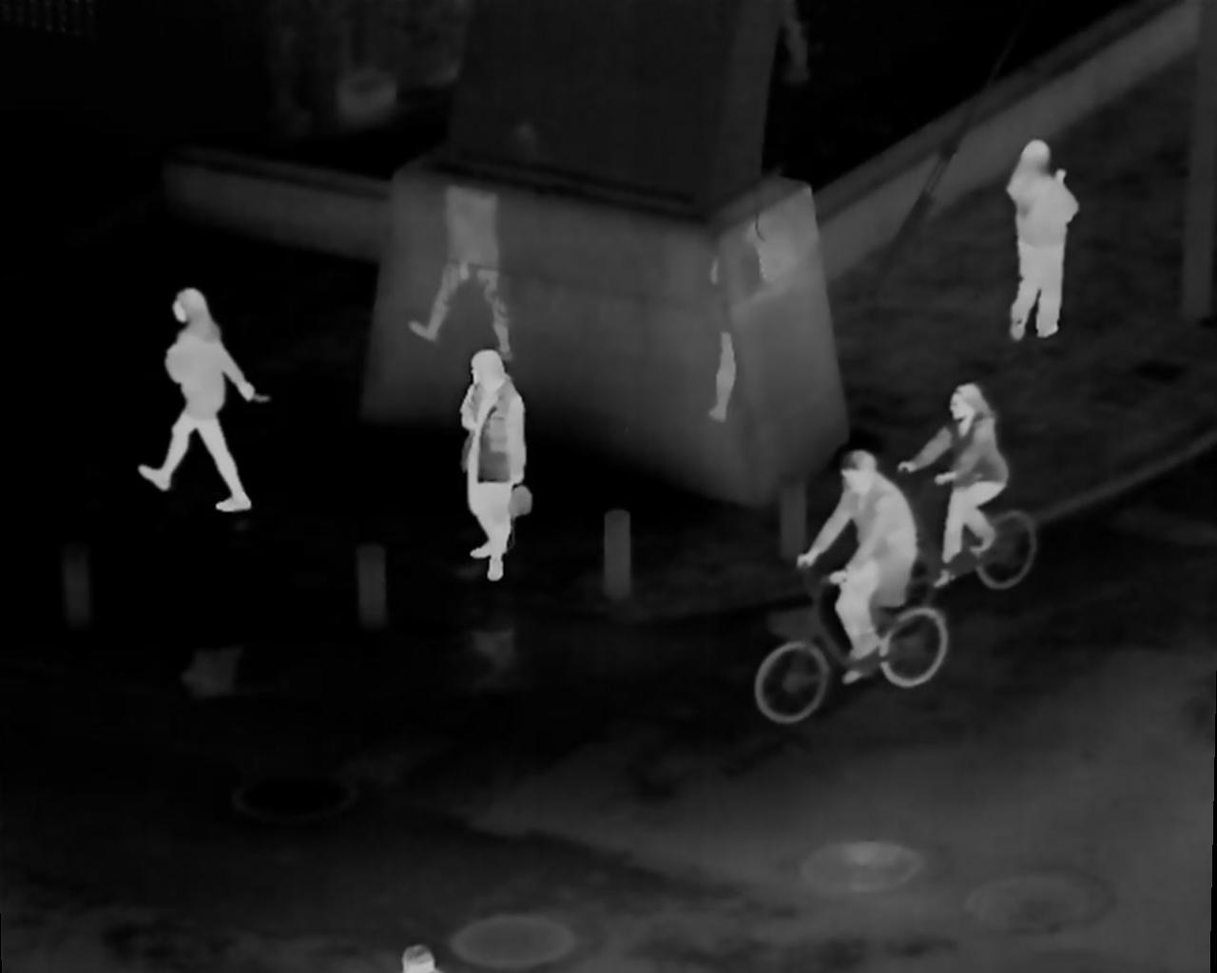person: (799, 450, 918, 671), (145, 283, 252, 519), (453, 349, 531, 582), (923, 385, 1007, 601), (1000, 135, 1086, 340)
